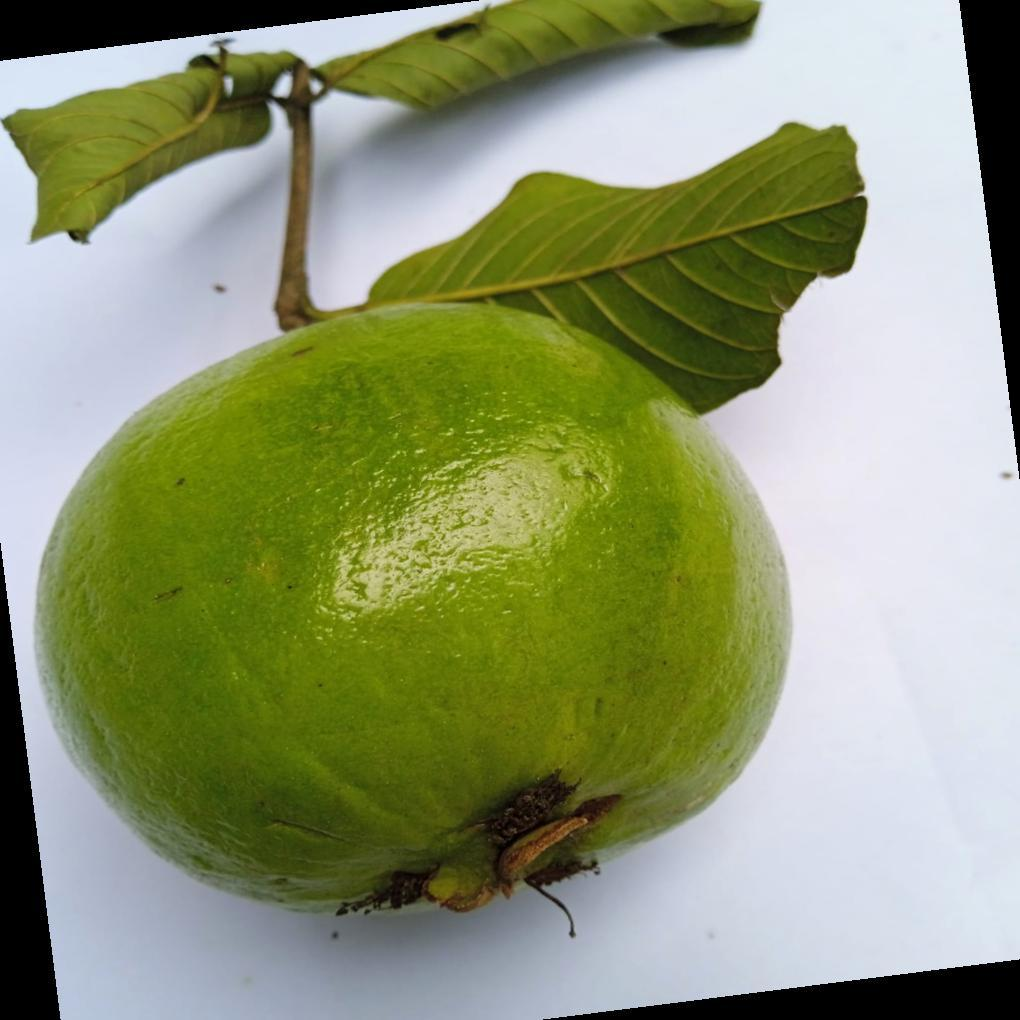FreshGuava: (29, 127, 868, 920)
